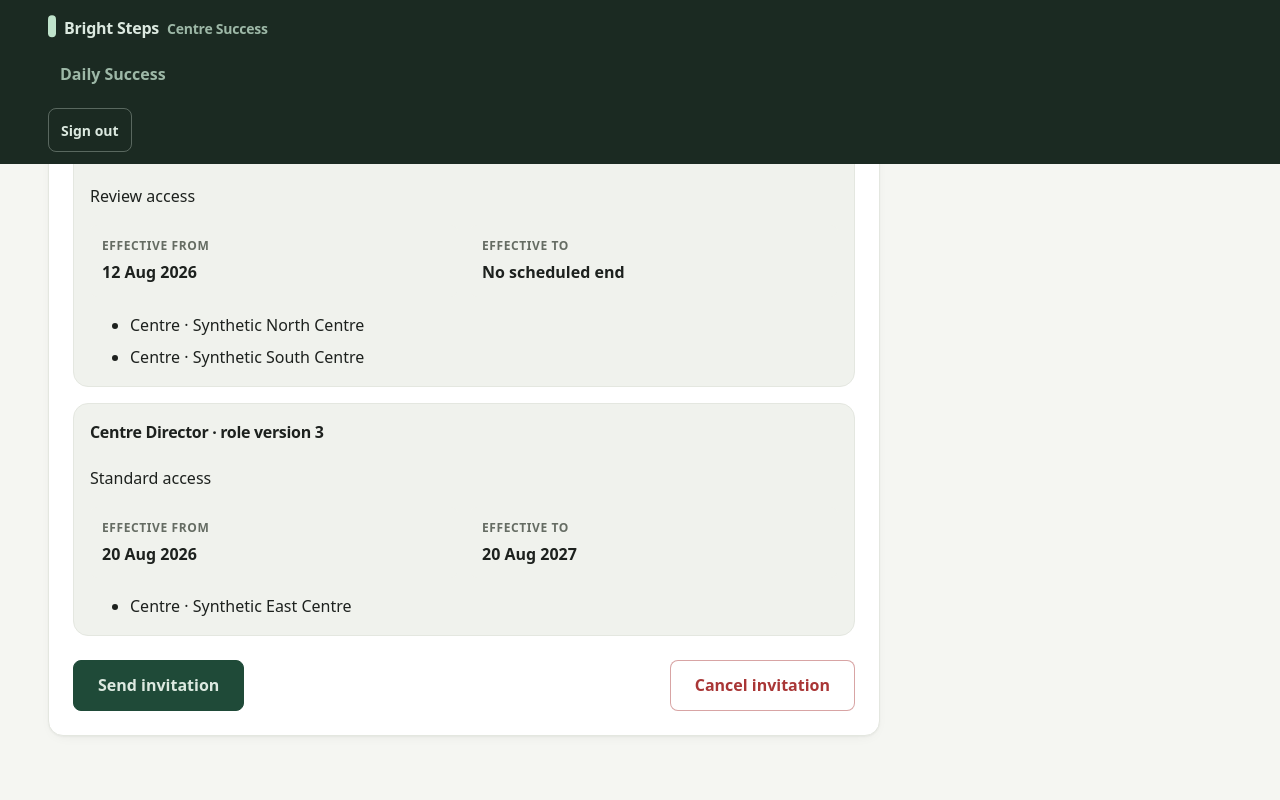
Test: Milestone 2C People & Access experience › requires explicit confirmation and a cancellation-specific reason
(page scrolled)
Click the button "Cancel invitation". click: coordinates (762, 686)
box: [670,660,855,711]
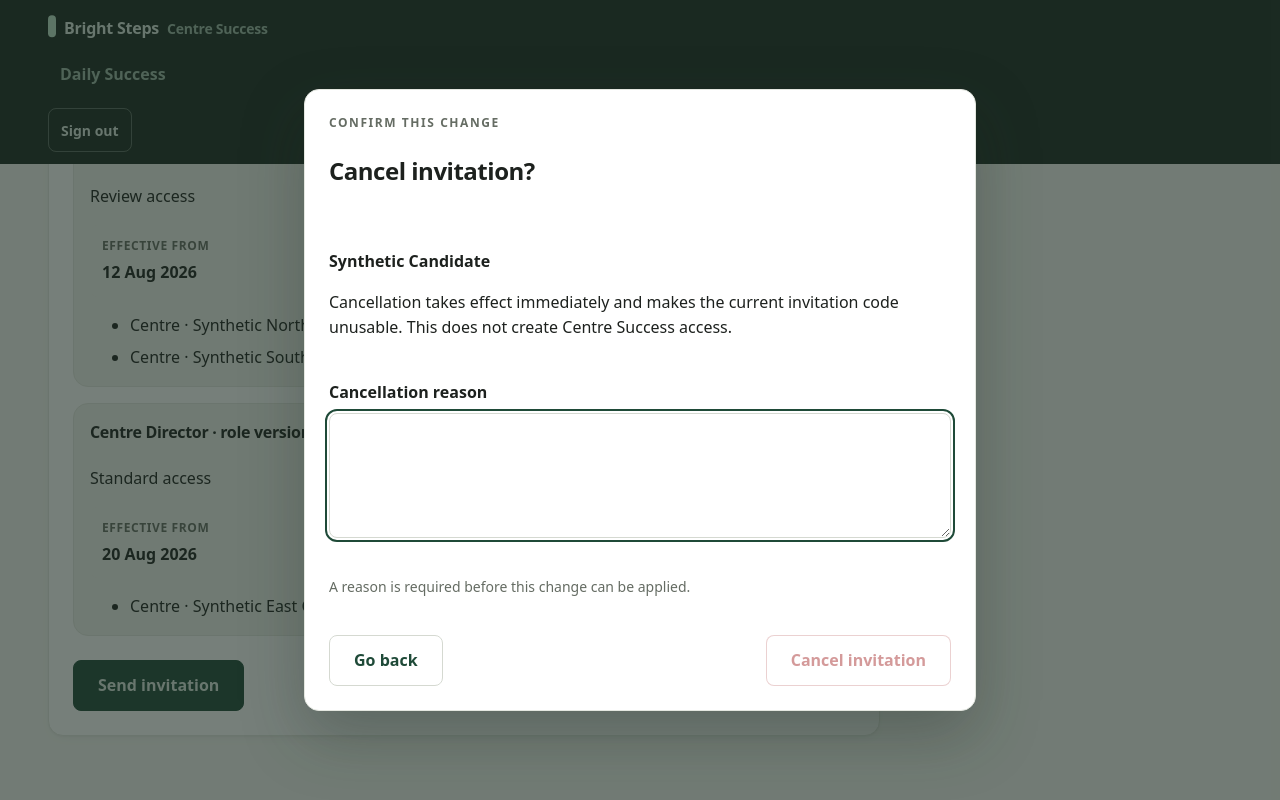
Now the text "Synthetic Candidate" is shown, box [329,250,490,272]
Now the text "code unusable" is shown, box [329,291,899,338]
Type "Invitation no longer required" into the text box labelled "Cancellation reason". click: coordinates (640, 475)
box: [329,412,951,538]
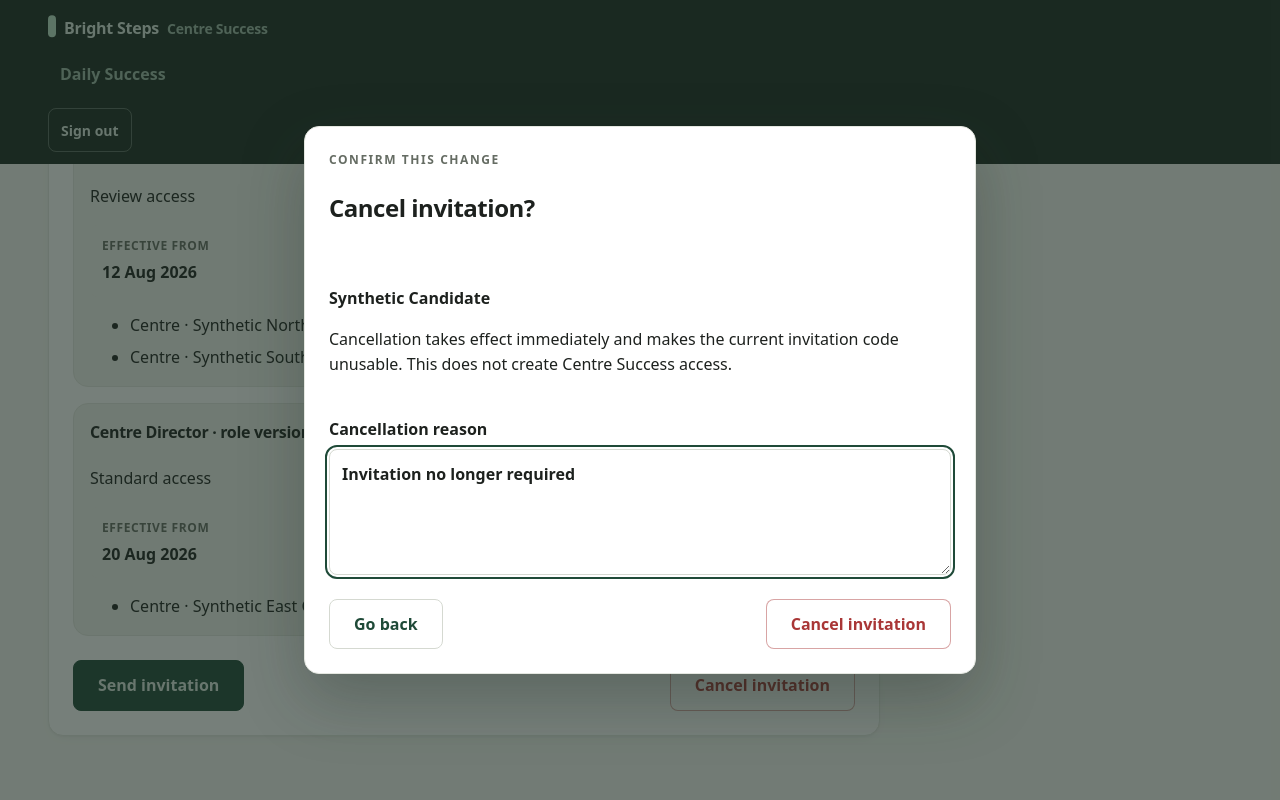
Click the button "Cancel invitation". click: coordinates (858, 624)
box: [766,599,951,649]
(page scrolled)
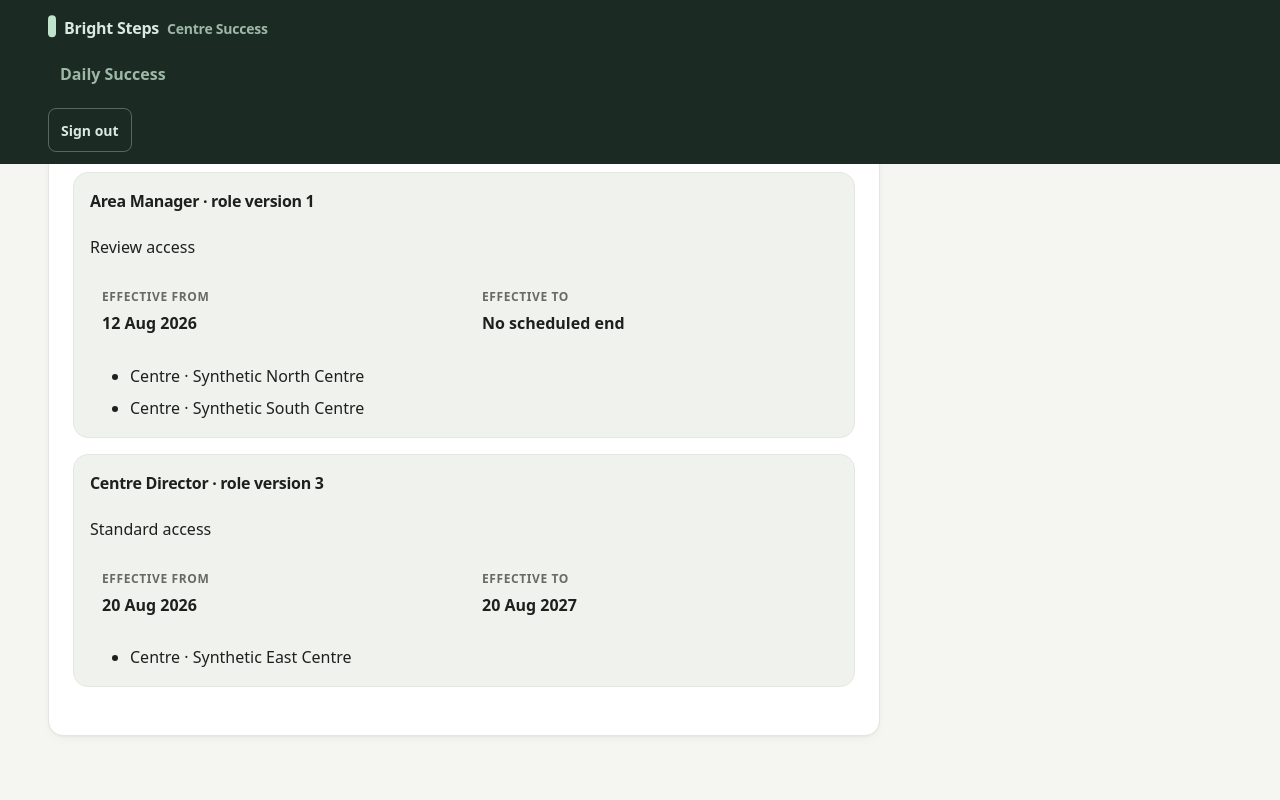
Now the button "Cancel invitation?" is gone
